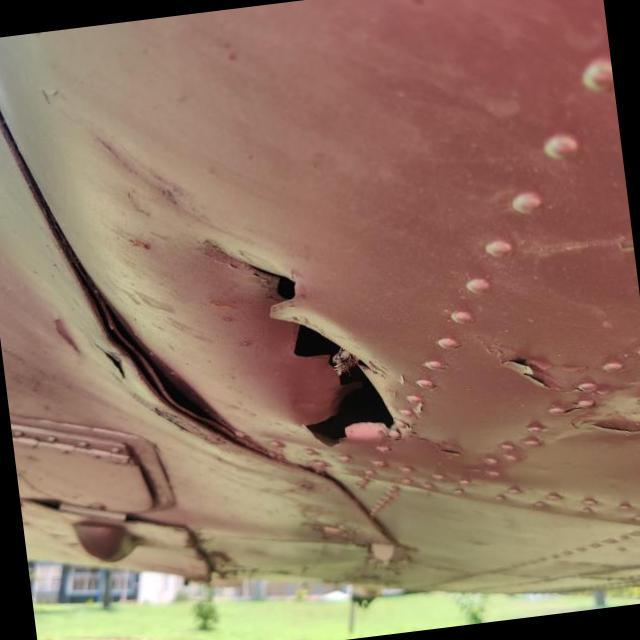Rupture: (186, 205, 427, 474)
